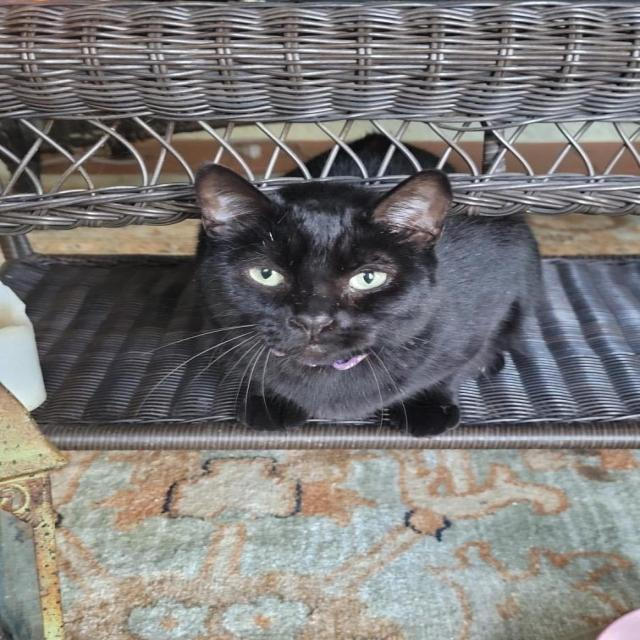bombay_cat: (187, 151, 458, 379)
